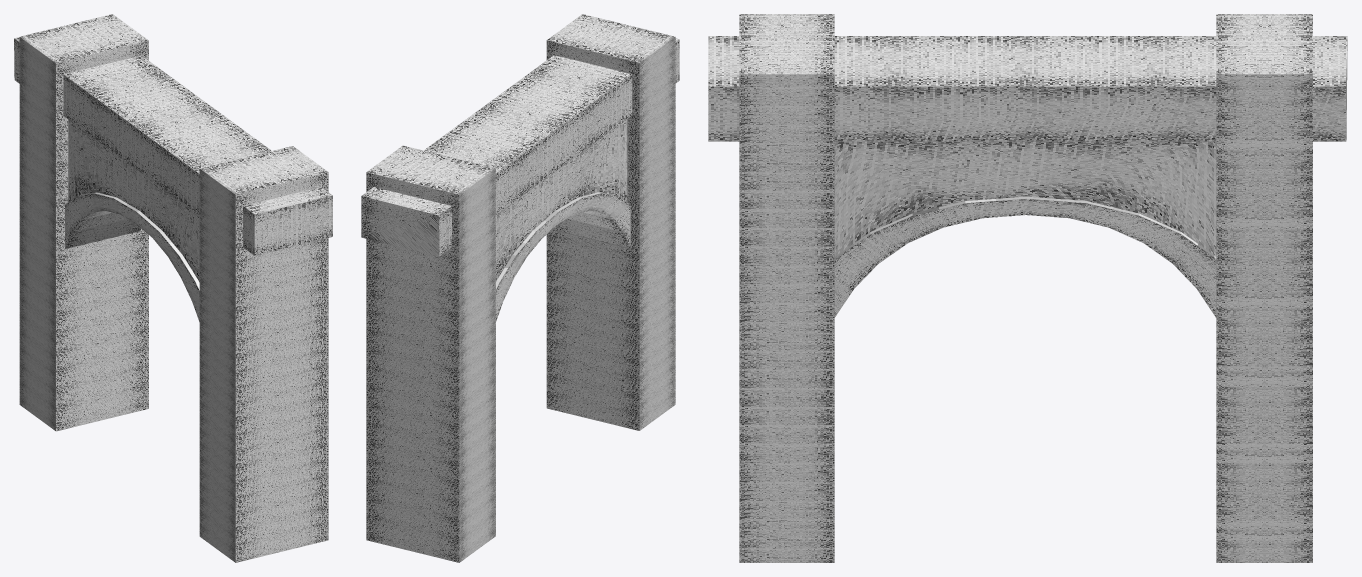
File: singleDuct.fbx
The picture shows the model from 3 angles, left to right: view 1: azimuth 30°, elevation 25°; view 2: azimuth 150°, elevation 25°; view 3: azimuth 270°, elevation 25°; orthographic projection. The views are drawn at different scales.
Parts seen in each view (by area): view 1: singleDuct; view 2: singleDuct; view 3: singleDuct.
Part boxes in pixels (x1,y1,x2,y2): singleDuct: (14, 14, 332, 562); singleDuct: (361, 14, 679, 562); singleDuct: (708, 14, 1347, 562).
Bounding box in the file's own units: 183 × 690 × 818.
